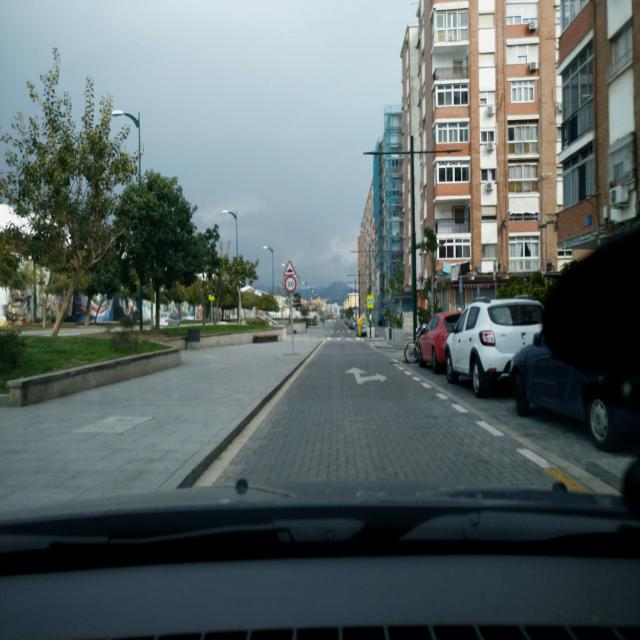bike: (403, 323, 428, 364), (403, 324, 428, 363)
car: (509, 332, 640, 452), (444, 294, 546, 398), (417, 310, 463, 374), (154, 310, 181, 330)
